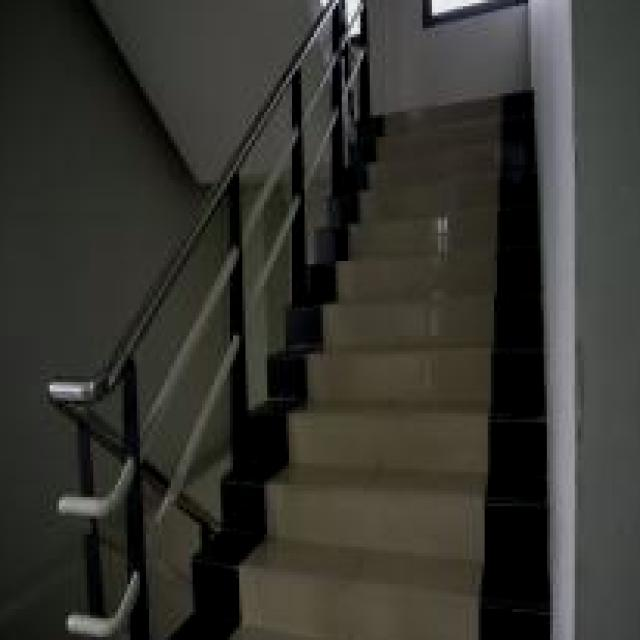upstair: (274, 109, 547, 640)
